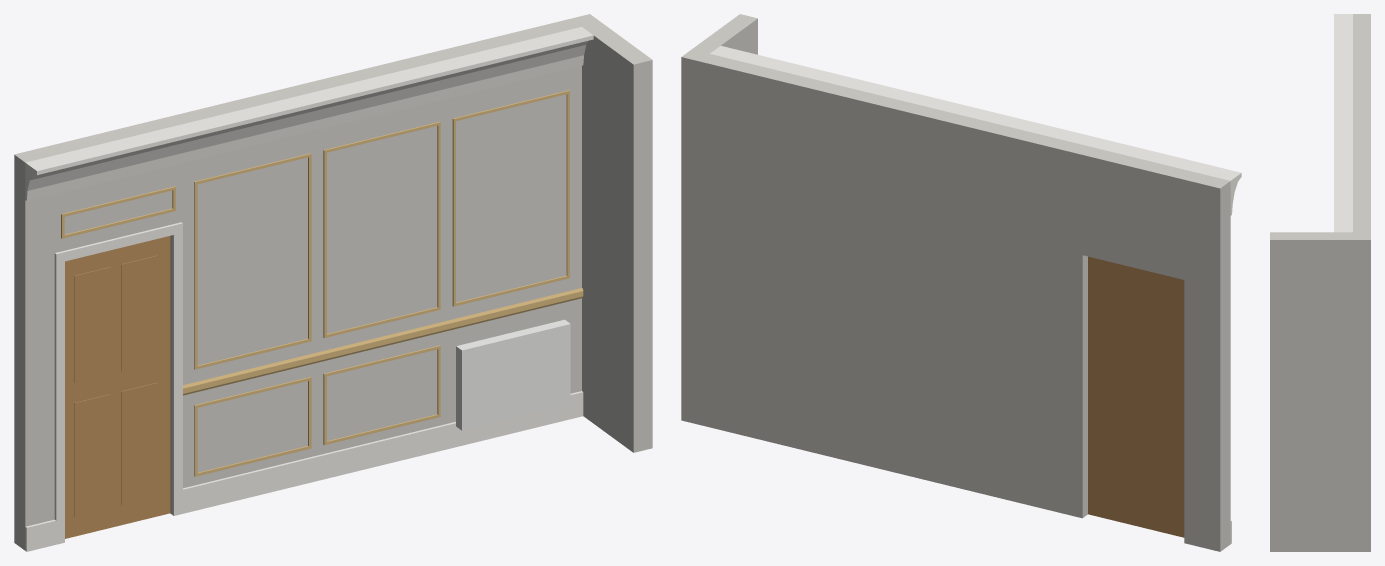
Rendered from picture-frame-panelling-haringey.glb.
3 views of the same model, side by side, from view 1: azimuth 30°, elevation 25°; view 2: azimuth 150°, elevation 25°; view 3: azimuth 270°, elevation 25° (orthographic). The views are drawn at different scales.
Parts seen in each view (by area): view 1: Room: Wall, Room: Wall, corner return, Room: Cornice, Room: Wall left of the door, Room: Door, Room: Radiator, Room: Skirting, Room: Wall over the door, Dado rail: Dado rail, Room: Door panel 3, Room: Door panel 4, Room: Door panel 1 (+5 smaller); view 2: Room: Wall, Room: Door, Room: Wall left of the door, Room: Wall over the door, Room: Wall, corner return, Room: Cornice; view 3: Room: Wall, corner return, Room: Cornice, Room: Wall, Room: Wall over the door, Room: Wall left of the door.
Part boxes in pixels (left/top/right/bottom): Room: Wall: left=161, top=18, right=581, bottom=514; Room: Wall, corner return: left=571, top=14, right=652, bottom=452; Room: Cornice: left=25, top=27, right=593, bottom=200; Room: Wall left of the door: left=14, top=145, right=63, bottom=550; Room: Door: left=65, top=236, right=170, bottom=538; Room: Radiator: left=456, top=319, right=570, bottom=430; Room: Skirting: left=183, top=391, right=583, bottom=513; Room: Wall over the door: left=53, top=118, right=172, bottom=250; Dado rail: Dado rail: left=183, top=288, right=583, bottom=395; Room: Door panel 3: left=74, top=394, right=111, bottom=516; Room: Door panel 4: left=121, top=382, right=157, bottom=505; Room: Door panel 1: left=74, top=267, right=111, bottom=382; Room: Wall: left=699, top=54, right=1092, bottom=518; Room: Door: left=1088, top=256, right=1184, bottom=537; Room: Wall left of the door: left=1184, top=172, right=1230, bottom=551; Room: Wall over the door: left=1082, top=147, right=1194, bottom=279; Room: Wall, corner return: left=681, top=14, right=757, bottom=424; Room: Cornice: left=710, top=46, right=1241, bottom=215; Room: Wall, corner return: left=1270, top=232, right=1370, bottom=551; Room: Cornice: left=1334, top=14, right=1352, bottom=232; Room: Wall: left=1353, top=71, right=1370, bottom=232; Room: Wall over the door: left=1353, top=29, right=1370, bottom=71; Room: Wall left of the door: left=1353, top=14, right=1370, bottom=28.
Size of the model in its own units: 4.5 by 2.9 by 0.85.
